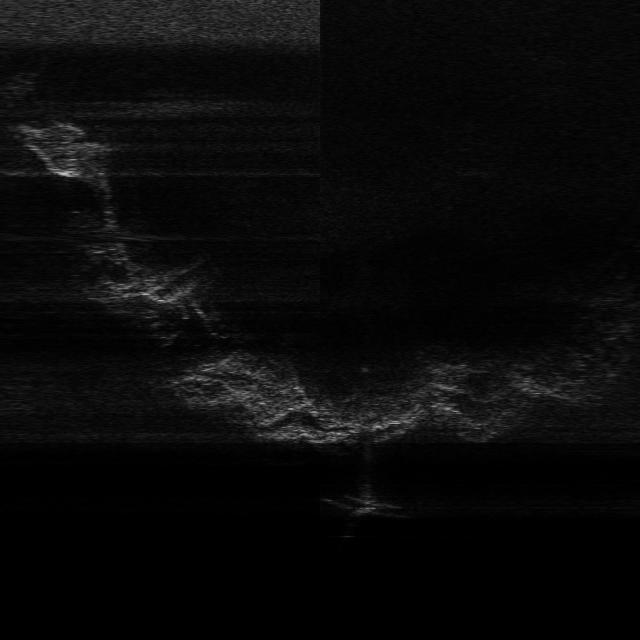plane: (321, 493, 408, 521)
